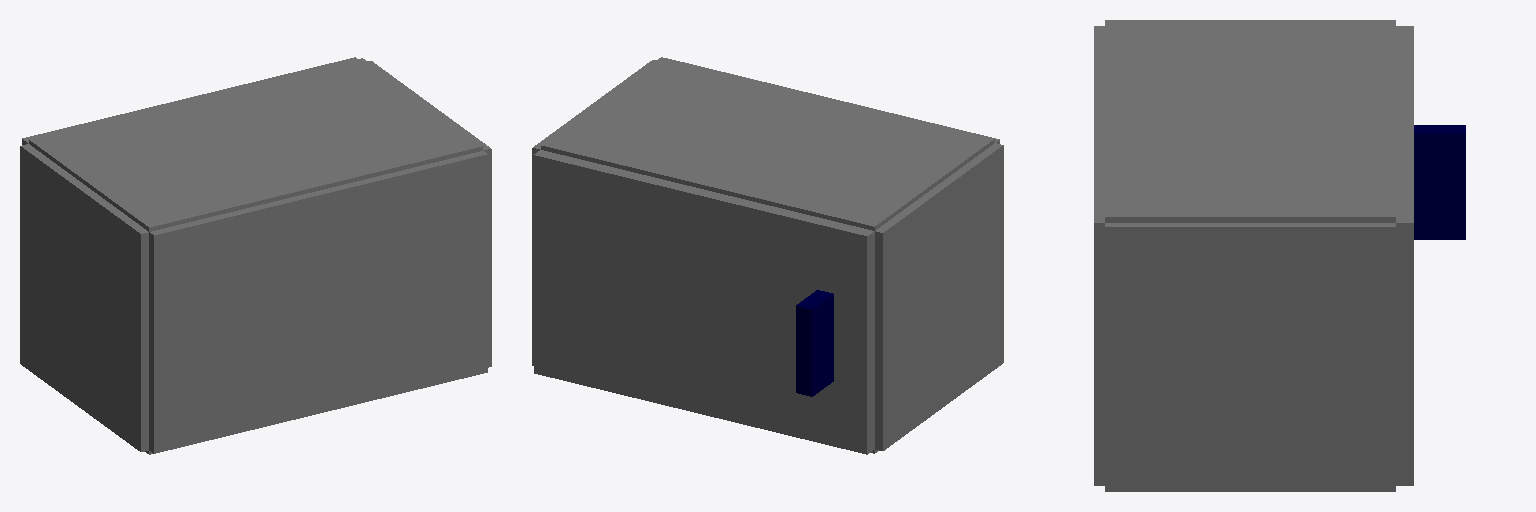
URDF robot description (microwave.urdf):
<?xml version="1.0" ?>
<robot name="microwave.urdf">
  <material name="Light Grey">
    <color rgba=".5 .5 .5 1"/>
  </material>
  <material name="Navy Blue">
    <color rgba="0 0 .3 1"/>
  </material>
  <link name="base_link">
    <contact>
      <lateral_friction value="1.0"/>
    </contact>
    <inertial>
      <origin rpy="0 0 0" xyz="0 0 0"/>
      <mass value=".0"/>
      <inertia ixx="1" ixy="0" ixz="0" iyy="1" iyz="0" izz="1"/>
    </inertial>

    <visual>
      <origin rpy="0 0 0" xyz="0 -.125 0"/>
      <geometry>
				<box size=".4 .02 .25"/>
      </geometry>
      <material name="Light Grey"/>
    </visual>
    <collision>
      <origin rpy="0 0 0" xyz=".2 0 0"/>
      <geometry>
				<box size=".02 .25 .25"/>
      </geometry>
    </collision>

    <visual>
      <origin rpy="0 0 0" xyz=".2 0 0"/>
      <geometry>
				<box size=".02 .25 .25"/>
      </geometry>
      <material name="Light Grey"/>
    </visual>
    <collision>
      <origin rpy="0 0 0" xyz=".2 0 0"/>
      <geometry>
				<box size=".02 .25 .25"/>
      </geometry>
    </collision>

    <visual>
      <origin rpy="0 0 0" xyz="-.2 0 0"/>
      <geometry>
				<box size=".02 .25 .25"/>
      </geometry>
      <material name="Light Grey"/>
    </visual>
    <collision>
      <origin rpy="0 0 0" xyz="-.2 0 0"/>
      <geometry>
				<box size=".02 .25 .25"/>
      </geometry>
    </collision>

    <visual>
      <origin rpy="0 0 0" xyz="0 0 .12"/>
      <geometry>
				<box size=".4 .25 .02"/>
      </geometry>
      <material name="Light Grey"/>
    </visual>
    <collision>
      <origin rpy="0 0 0" xyz="0 0 .12"/>
      <geometry>
				<box size=".4 .25 .02"/>
      </geometry>
    </collision>

    <visual>
      <origin rpy="0 0 0" xyz="0 0 -.12"/>
      <geometry>
				<box size=".4 .25 .02"/>
      </geometry>
      <material name="Light Grey"/>
    </visual>
    <collision>
      <origin rpy="0 0 0" xyz="0 0 -.12"/>
      <geometry>
				<box size=".4 .25 .02"/>
      </geometry>
    </collision>

    
  </link>
  <link name="door_link">
    <contact>
      <lateral_friction value="1.0"/>
    </contact>
    <inertial>
      <origin rpy="0 0 0" xyz="0 0 0"/>
      <mass value=".0"/>
      <inertia ixx="1" ixy="0" ixz="0" iyy="1" iyz="0" izz="1"/>
    </inertial>
    <visual>
      <origin rpy="0 0 0" xyz="-.2 .03 0"/>
      <geometry>
				<box size=".4 .02 .25"/>
      </geometry>
      <material name="Light Grey"/>
    </visual>
    <collision>
      <origin rpy="0 0 0" xyz="-.2 .03 0"/>
      <geometry>
				<box size=".4 .02 .25"/>
      </geometry>
    </collision>
  </link>
  <link name="handle_link">
    <visual>
      <origin rpy="0 0 0" xyz="-.35 .05 0"/>
      <geometry>
				<box size=".02 .07 .1"/>
      </geometry>
      <material name="Navy Blue"/>
    </visual>
    <collision>
      <origin rpy="0 0 0" xyz="-.35 .05 0"/>
      <geometry>
				<box size=".02 .07 .1"/>
      </geometry>
    </collision>
  </link>
  <joint name="hinge" type="revolute">
    <parent link="base_link"/>
    <child link="door_link"/>
    <origin xyz=".2 .1 0" rpy="0 0 0"/>
    <axis xyz="0 0 1"/>
    <limit lower="0" upper="1.7" effort="100" velocity="100"/>
  </joint>
  <joint name="handle" type="fixed">
    <parent link="door_link"/>
    <child link="handle_link"/>
    <origin xyz="0 0 0" rpy="0 0 0"/>
  </joint>
</robot>

--- Facts derived from the render (not from the file) ---
Views: 3 orthographic renders of the robot side by side, from view 1: azimuth 30°, elevation 25°; view 2: azimuth 150°, elevation 25°; view 3: azimuth 270°, elevation 25°.
Robot: microwave.urdf — 3 links, 2 joints (1 revolute, 1 fixed); root link base_link; default pose: all joints at 0.
Links seen in each view (by area): view 1: base_link, door_link; view 2: door_link, base_link, handle_link; view 3: base_link, door_link, handle_link.
Boxes of the visible links, x1=… form: base_link: x1=20, y1=58, x2=491, y2=454; door_link: x1=22, y1=57, x2=356, y2=144; door_link: x1=534, y1=150, x2=874, y2=454; base_link: x1=532, y1=57, x2=1003, y2=453; handle_link: x1=796, y1=290, x2=833, y2=396; base_link: x1=1094, y1=20, x2=1395, y2=491; door_link: x1=1396, y1=26, x2=1413, y2=485; handle_link: x1=1414, y1=125, x2=1465, y2=239.
Bounding box of the posed robot: 0.42 × 0.32 × 0.26 m (x, y, z).
Geometry: primitives only (box / cylinder / sphere), no mesh files.
